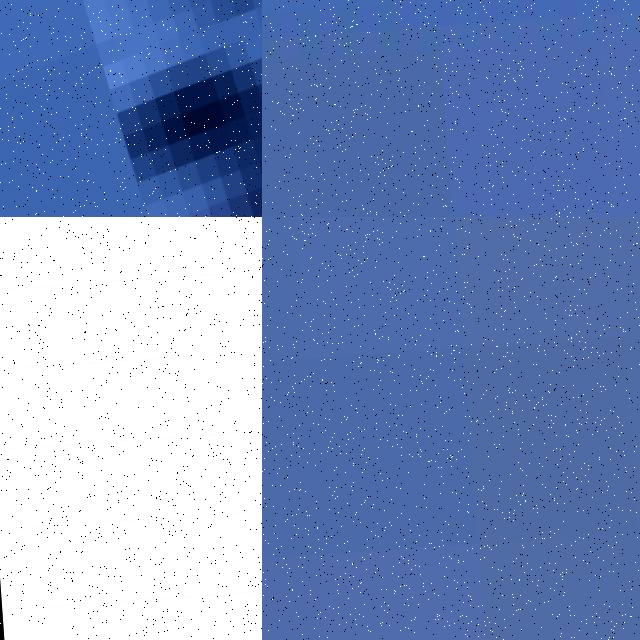drone: (0, 0, 262, 217)
